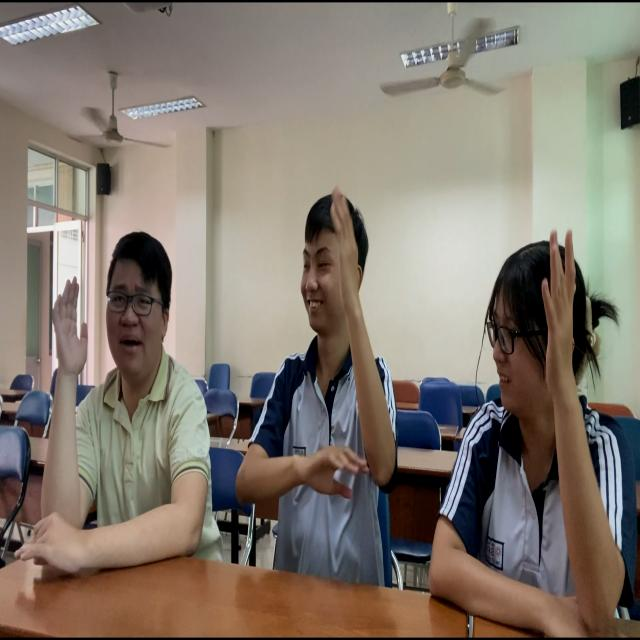raise_hand: (444, 215, 640, 640), (237, 181, 423, 580), (14, 242, 214, 576)
